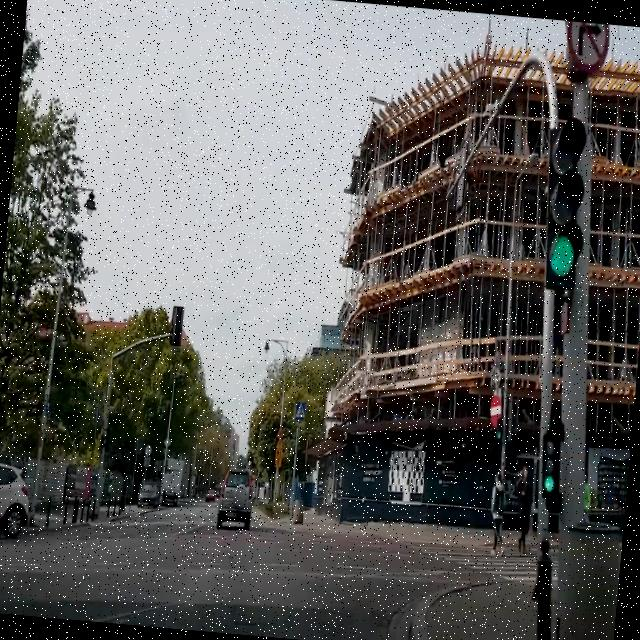Dzieci: (276, 424, 284, 438)
Przejscie dla pieszych: (294, 400, 306, 420)
Zakaz wjazdu: (488, 394, 502, 426)
